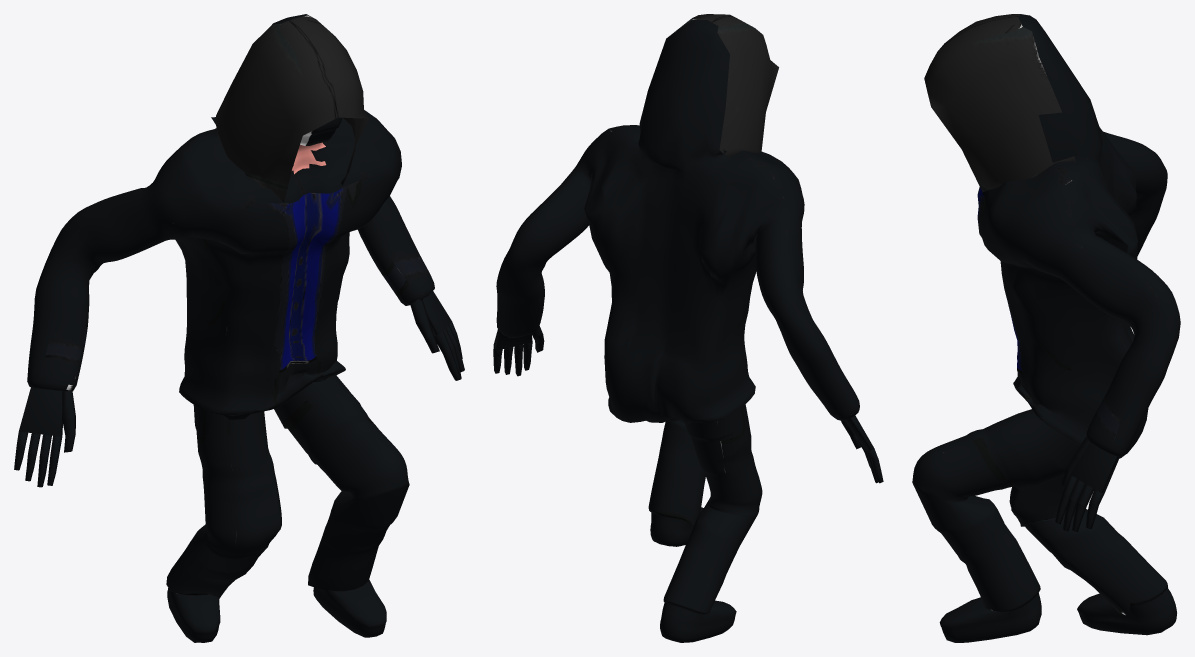
The model's file is keyFrame04.obj.
The picture shows the model from 3 angles, left to right: view 1: azimuth 30°, elevation 25°; view 2: azimuth 150°, elevation 25°; view 3: azimuth 270°, elevation 25°; orthographic projection. The views are drawn at different scales.
Visible parts, largest first — view 1: pasted__polySurface71 group4; view 2: pasted__polySurface71 group4; view 3: pasted__polySurface71 group4.
Boxes of the visible parts, box(x1,y1,x2,y2) form: pasted__polySurface71 group4: box(14, 14, 464, 642); pasted__polySurface71 group4: box(493, 14, 883, 642); pasted__polySurface71 group4: box(912, 14, 1180, 642).
Size of the model in its own units: 8.82 by 12.2 by 4.68.
